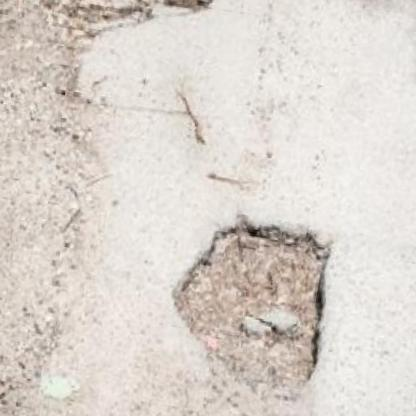pothole: (159, 205, 343, 406), (30, 0, 228, 60)
